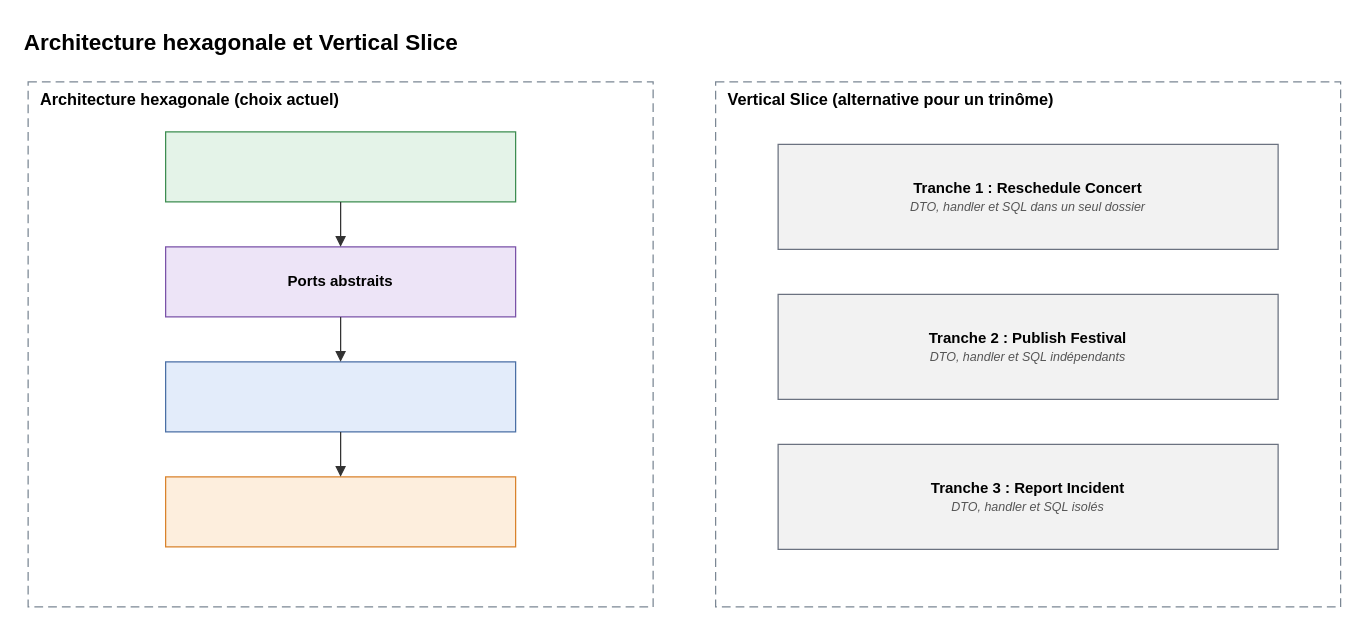
This 1368x629 diagram has some shape labels left out. The centre of each missing label's shape, as x and y in pixels:
"Adaptateurs concrets" goes at [340,166].
"Application (cas d'usage)" goes at [340,396].
"Domaine central" goes at [340,511].
